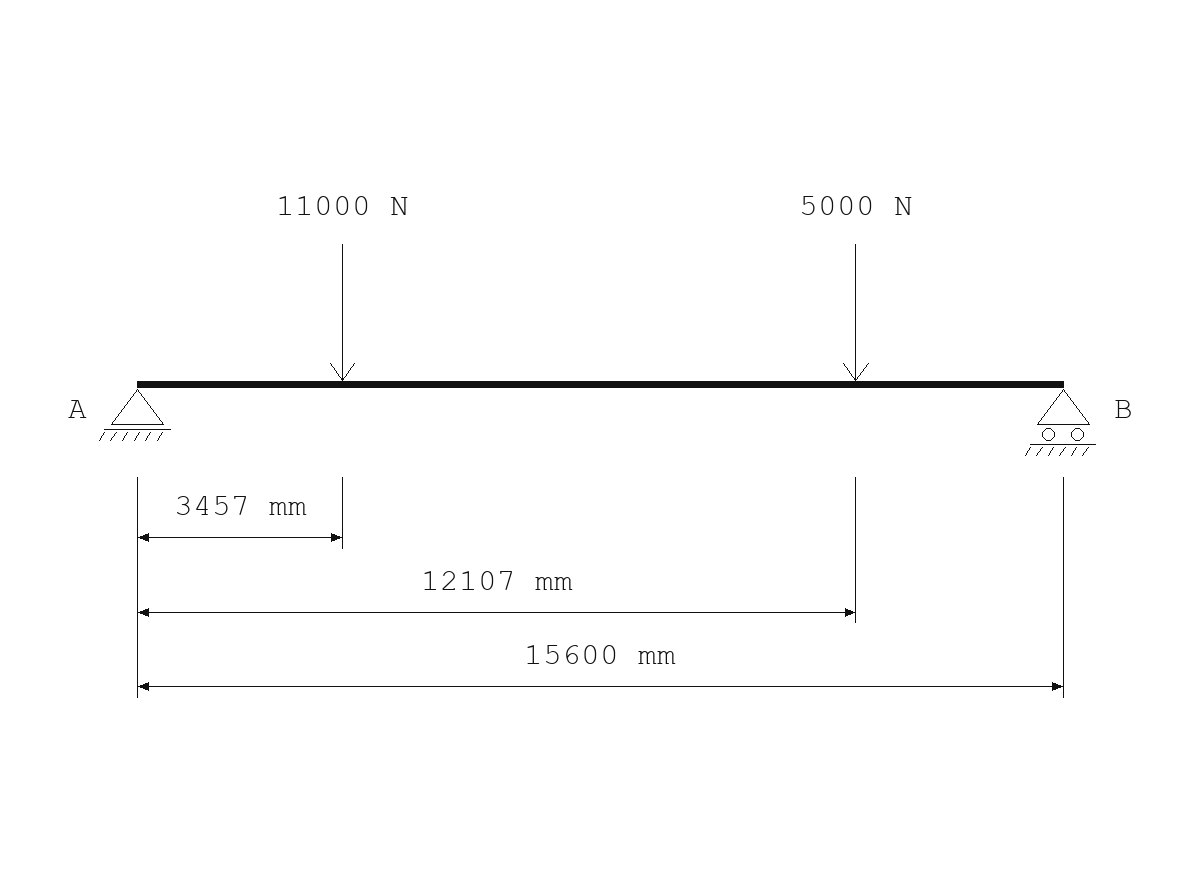pin_support: (99, 389, 171, 441)
point_load: (843, 244, 869, 381), (330, 244, 355, 381)
roller_support: (1025, 389, 1096, 456)
